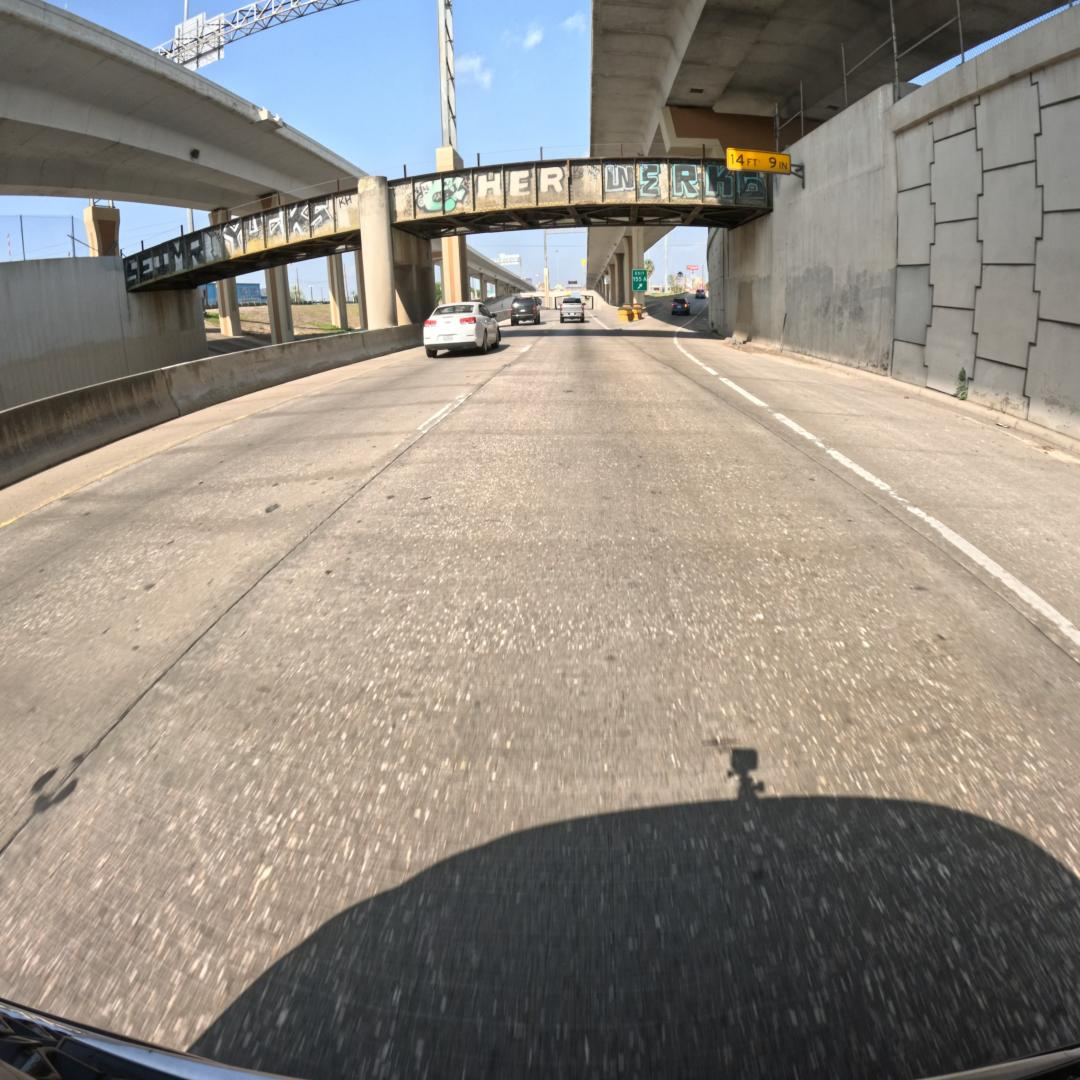lane0: (0, 326, 1080, 1077)
lane1: (0, 329, 551, 852)
